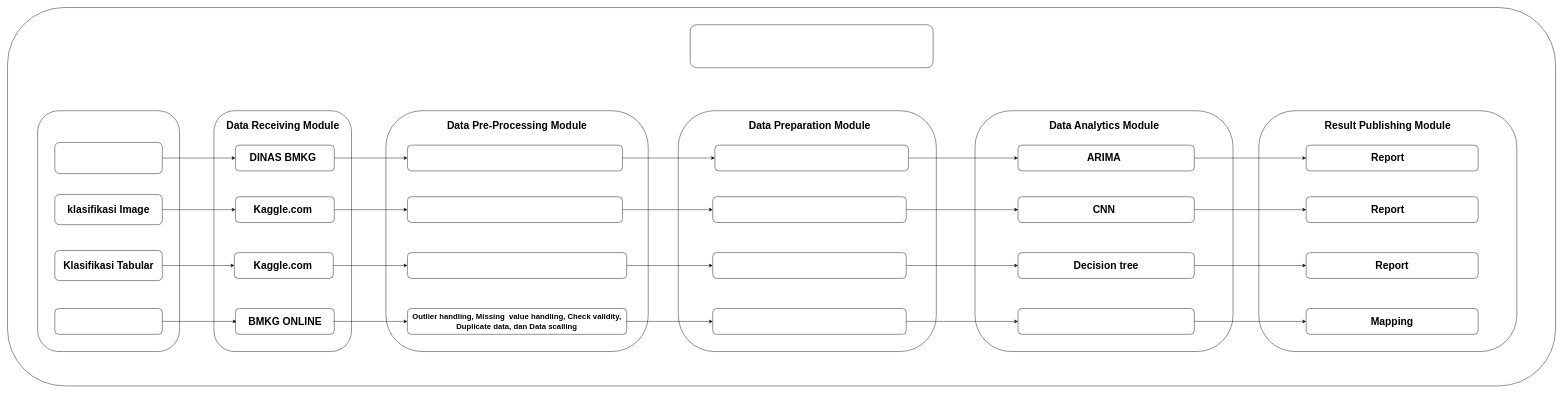
The diagram is 1563 pixels wide and 393 high, and some of its shapes have lost their labels. The shapes that lost their labels are listed below. From the top down, each one's box as (x1, y1, x2, y2) in pixels, then its label:
(690, 24, 933, 68): Arsitektur Sistem
(54, 142, 162, 174): Forcesting
(54, 308, 162, 334): Klustering
(712, 308, 906, 334): CLUSTER 0 , CLUSTER 1 DAN CLUSTER 2
(1018, 308, 1194, 334): K-means
